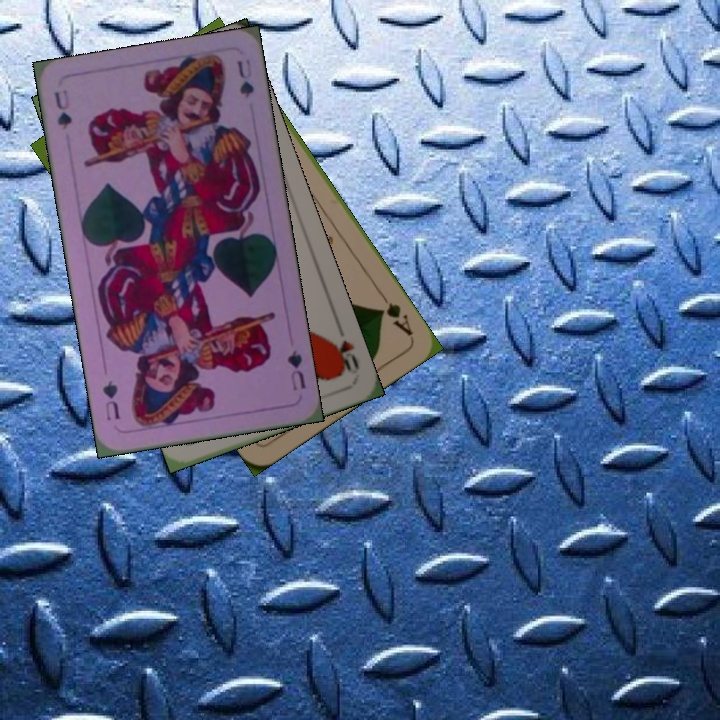GA: (374, 288, 416, 339)
GU: (50, 85, 75, 133), (283, 346, 308, 393)
HO: (327, 320, 362, 377)
